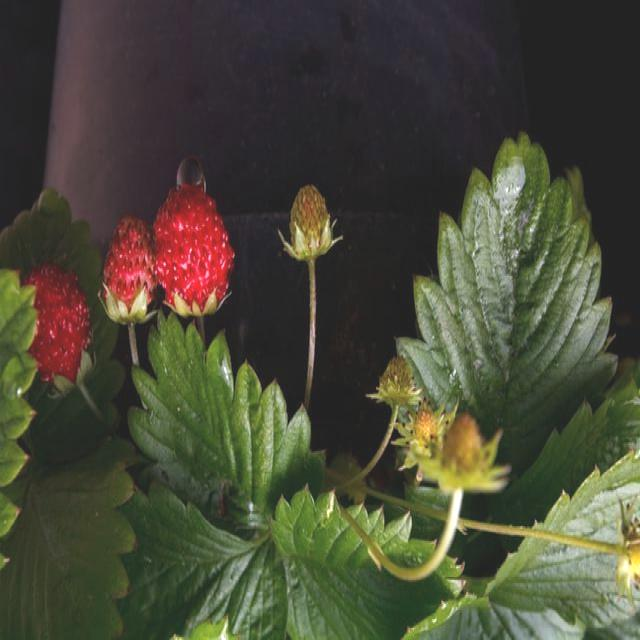ripe: (16, 260, 100, 410), (152, 176, 236, 322), (96, 214, 158, 341)
unripe: (433, 409, 494, 499), (280, 183, 340, 268), (373, 348, 418, 414), (406, 398, 438, 469)
